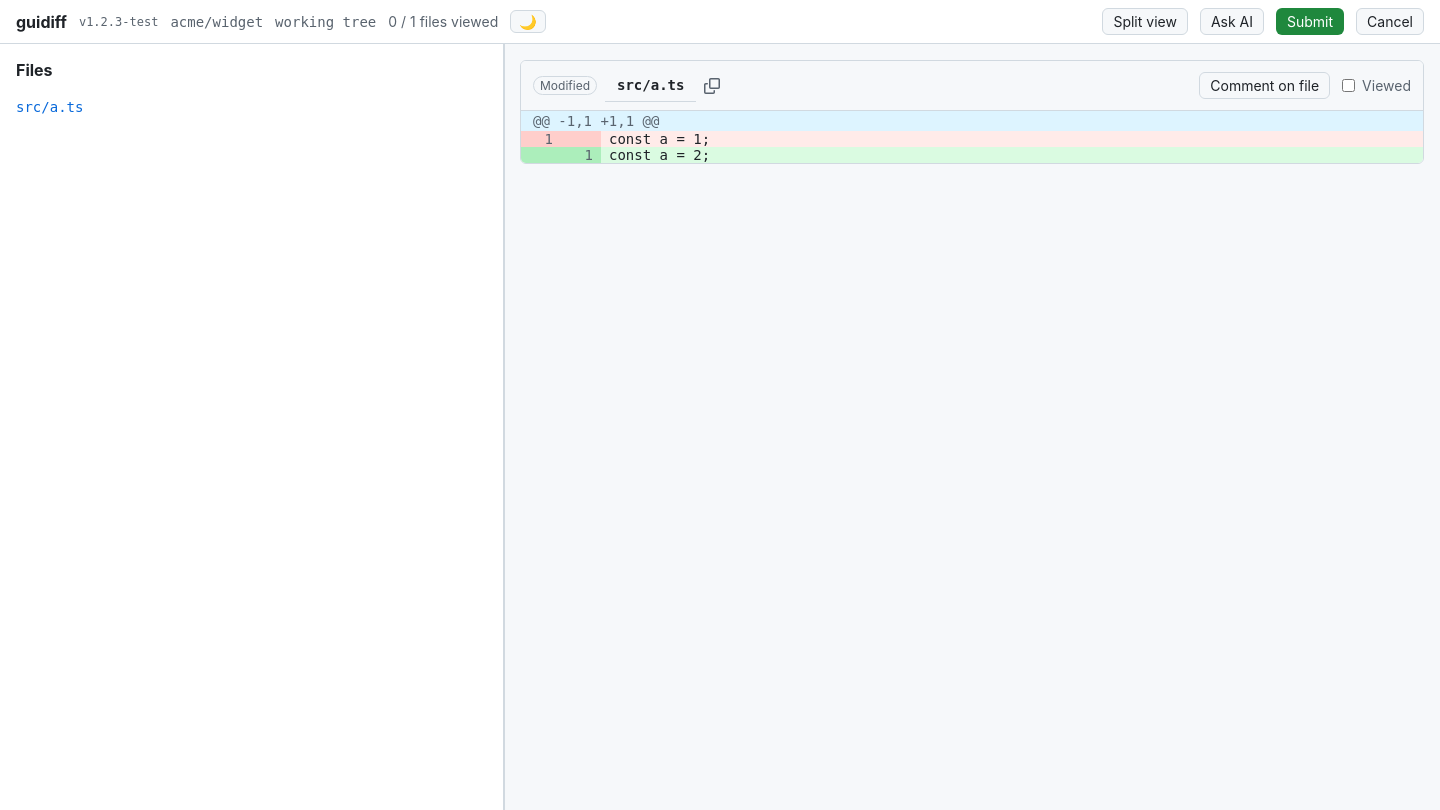
Test: App › sending a question streams the answer into the panel
The image size is (1440, 810).
Click the button "Ask AI" at (1232, 22), box [1200, 8, 1264, 35]
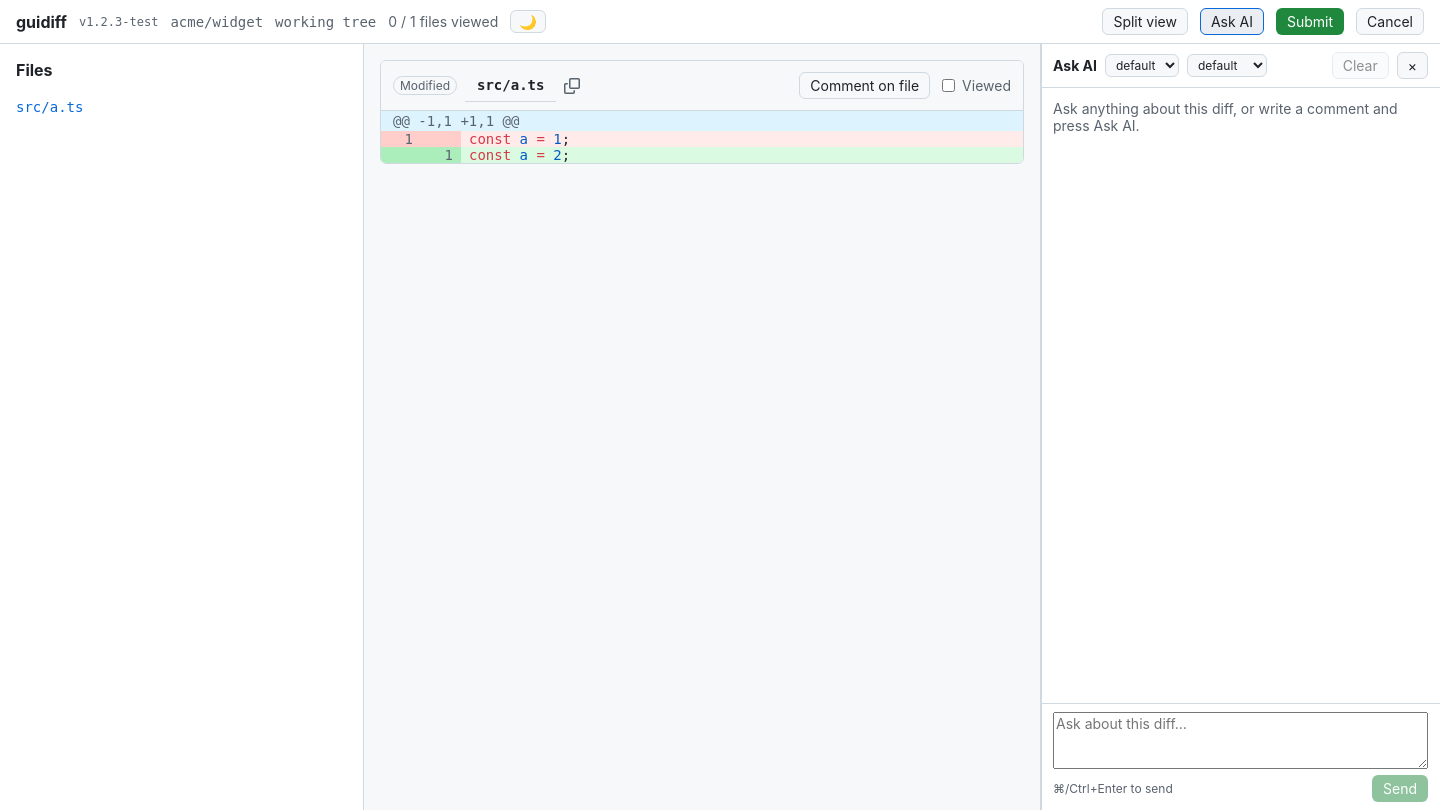
Type "why?" into the text box with placeholder "Ask about this diff…" at (1240, 740), box [1053, 712, 1428, 769]
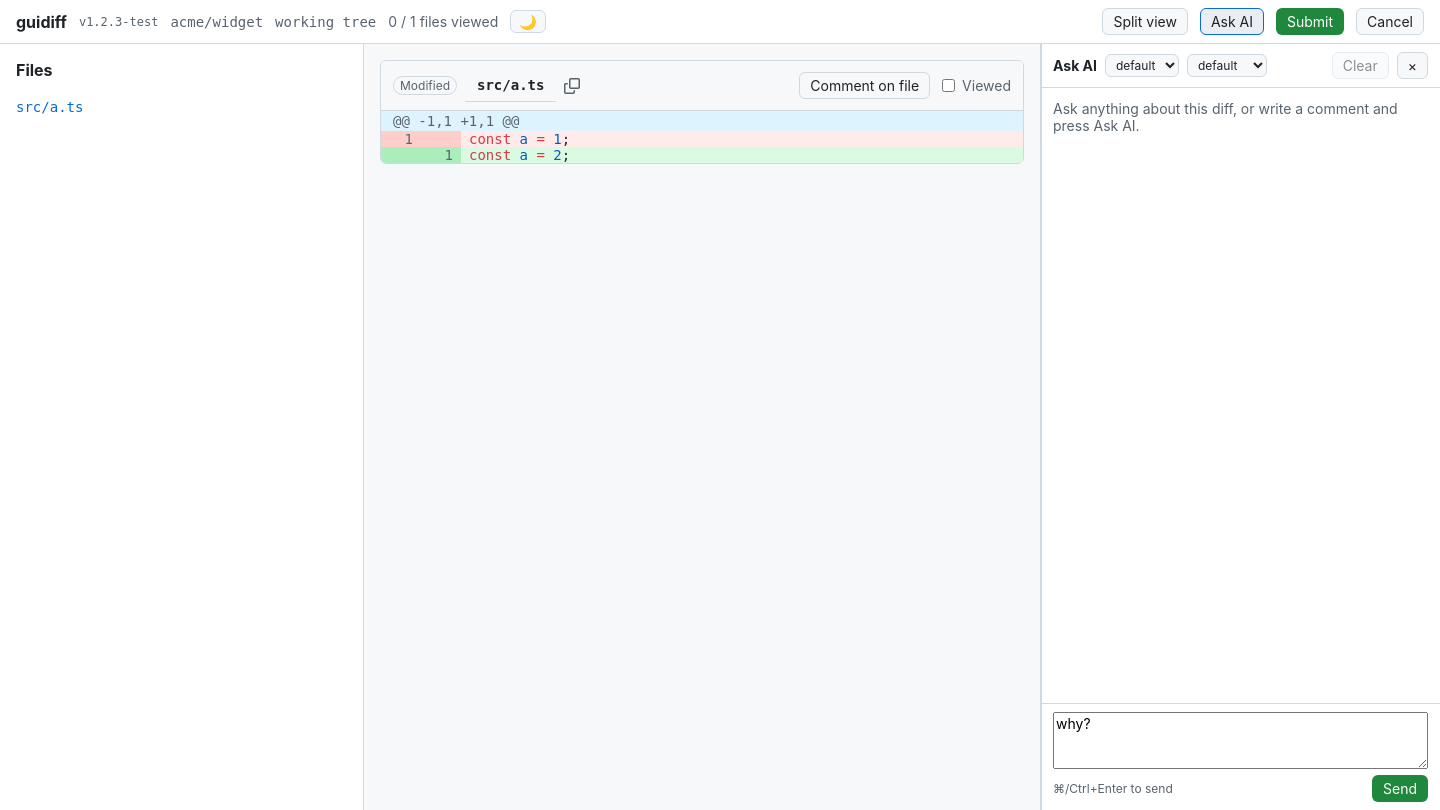
Click the button "Send" at (1400, 788), box [1372, 775, 1428, 802]
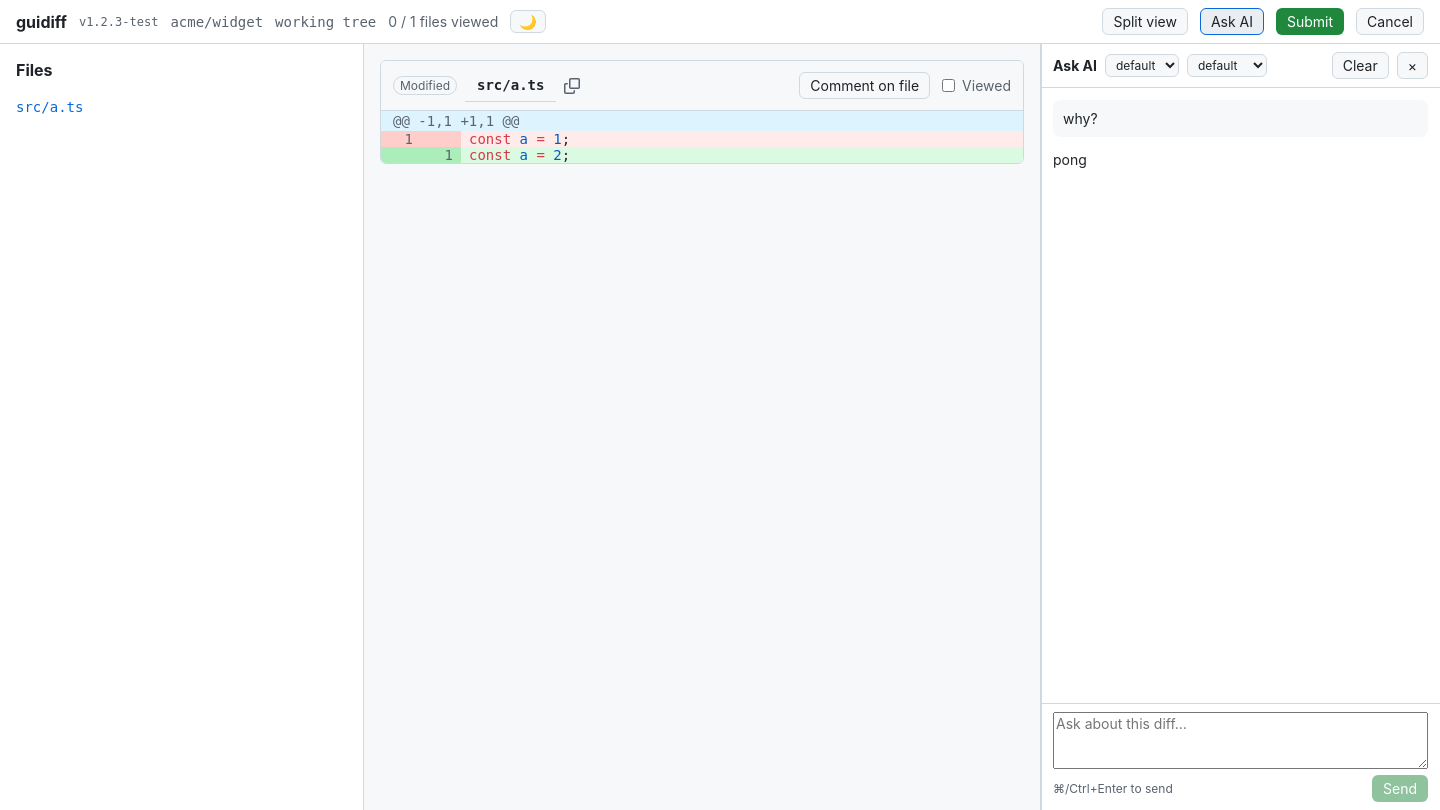
Check: the text "pong" is shown, box [1053, 151, 1087, 168]
Check: the text "why?" is shown, box [1063, 110, 1098, 127]
